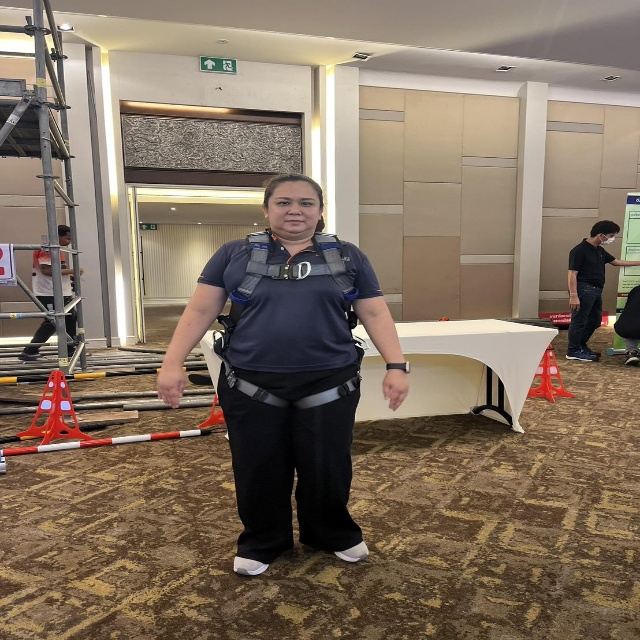Arnes_seguridad: (212, 227, 373, 419)
